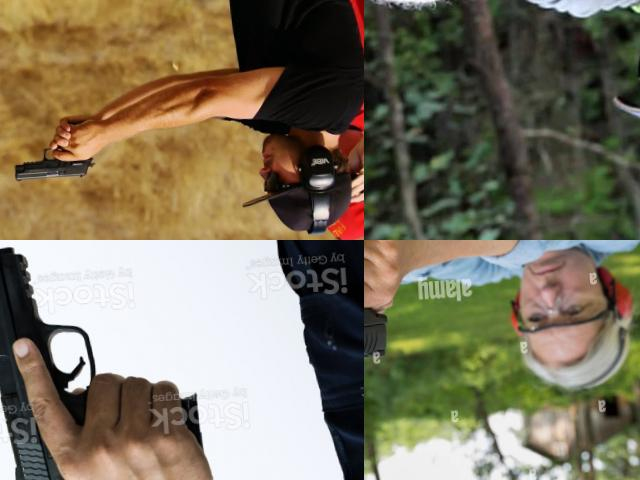handgun: (0, 240, 207, 480), (364, 240, 468, 390), (364, 0, 478, 91), (7, 116, 95, 184)
